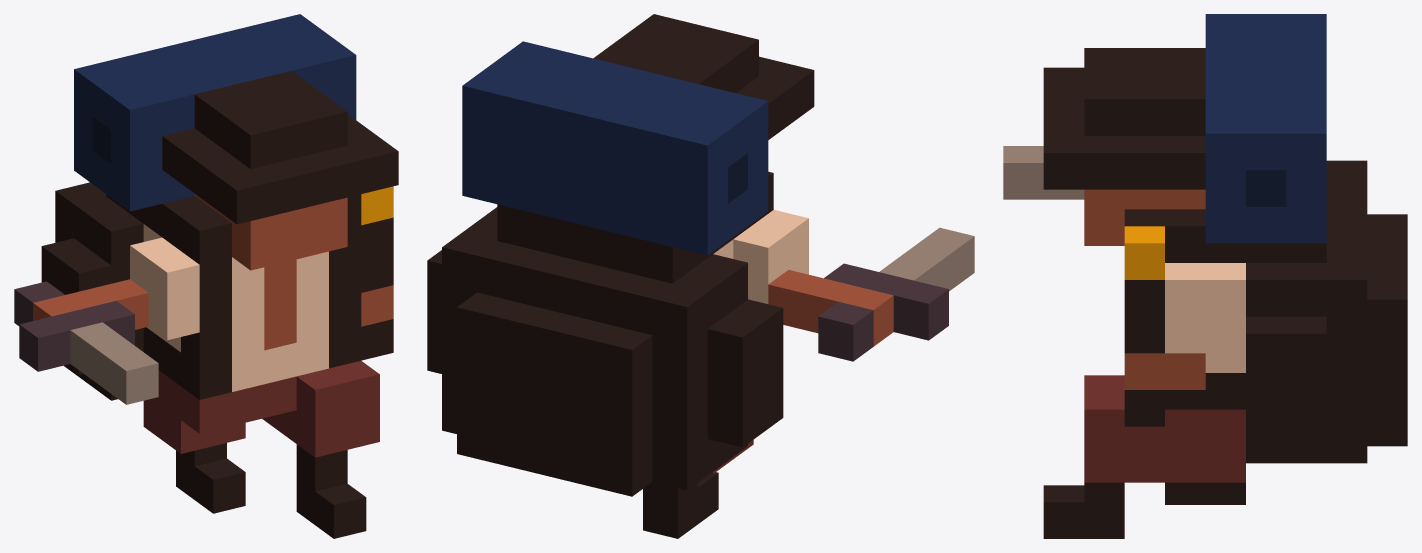
Rendered from adventurer_action_1.obj.
The picture shows the model from 3 angles, left to right: view 1: azimuth 30°, elevation 25°; view 2: azimuth 150°, elevation 25°; view 3: azimuth 270°, elevation 25°; orthographic projection. The views are drawn at different scales.
Bounding box in the file's own units: 1.2 × 1.2 × 1.
1 material, 1 textured.
